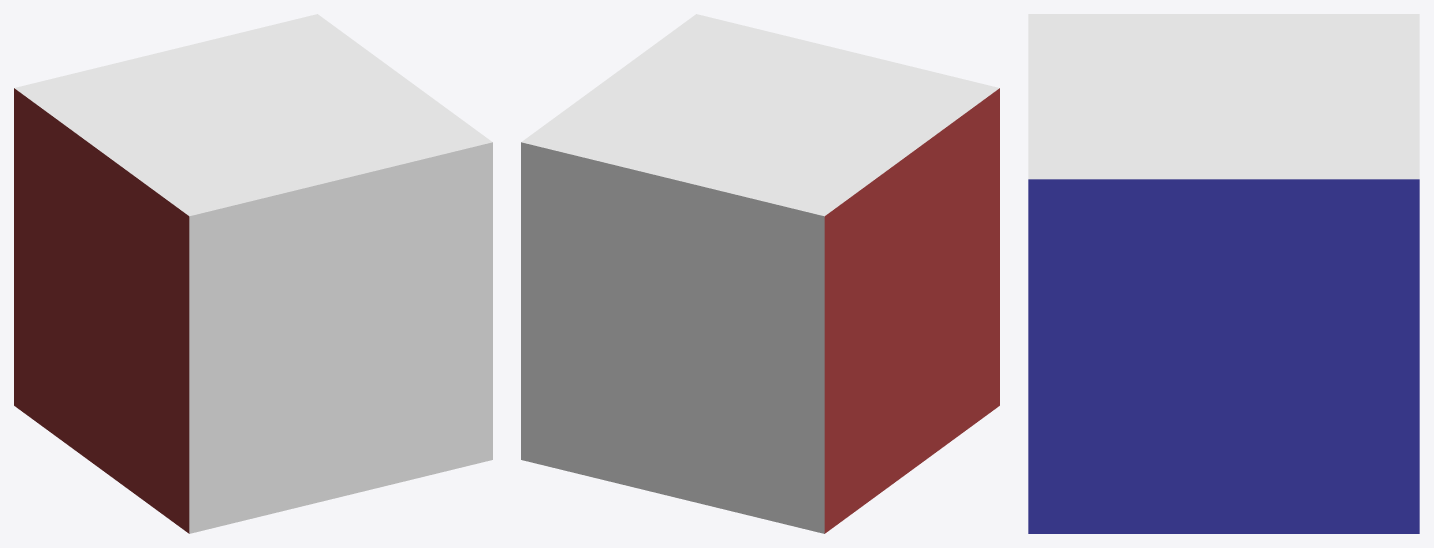
The model's file is rec_portal.dae.
The picture shows the model from 3 angles, left to right: view 1: azimuth 30°, elevation 25°; view 2: azimuth 150°, elevation 25°; view 3: azimuth 270°, elevation 25°; orthographic projection. The views are drawn at different scales.
Parts seen in each view (by area): view 1: Square-S3D-23, Square-S3D-13, Square-S3D-15; view 2: Square-S3D-16, Square-S3D-13, Square-S3D-15; view 3: Square-S3D-14, Square-S3D-15.
Boxes of the visible parts, x1,y1,x2,y2 form: Square-S3D-23: [189, 142, 492, 533]; Square-S3D-13: [14, 88, 189, 533]; Square-S3D-15: [14, 14, 492, 216]; Square-S3D-16: [521, 142, 824, 533]; Square-S3D-13: [824, 88, 999, 533]; Square-S3D-15: [521, 14, 999, 216]; Square-S3D-14: [1028, 179, 1419, 533]; Square-S3D-15: [1028, 14, 1419, 179].
Bounding box in the file's own units: 1 × 1 × 1.
